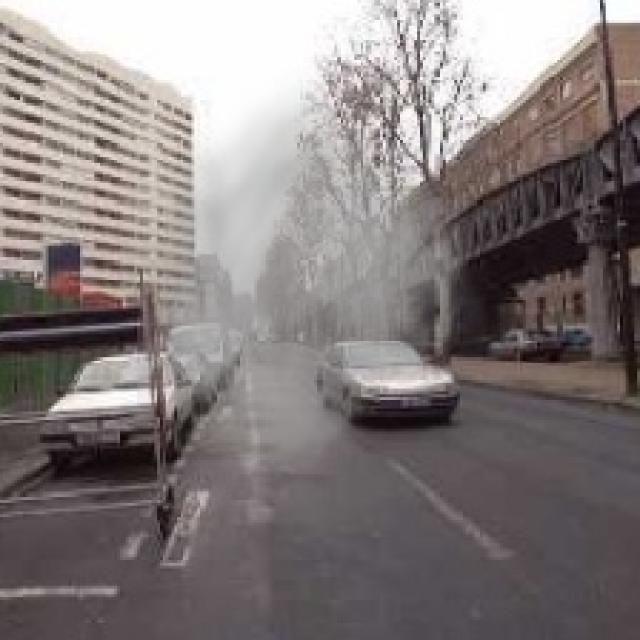Smoke: (137, 69, 506, 492)
